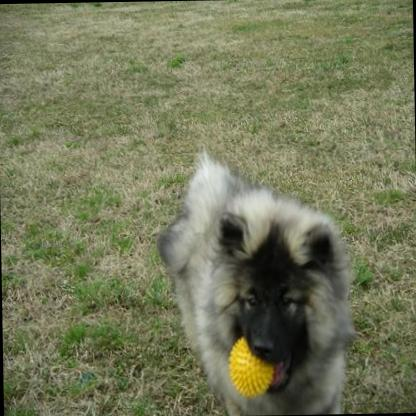keeshond: (154, 148, 356, 414)
